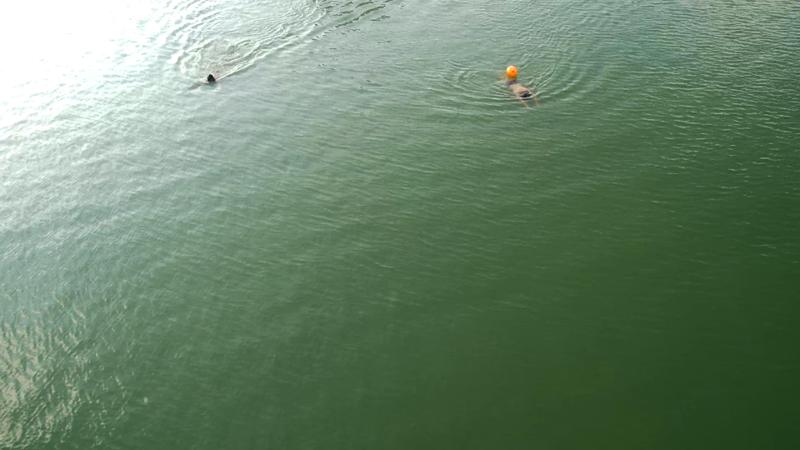swimmers: (497, 73, 540, 112)
